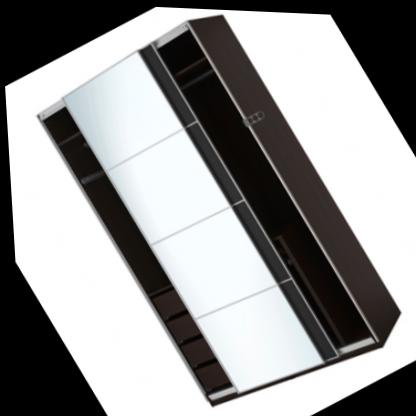Cabinet: (16, 1, 416, 416)
